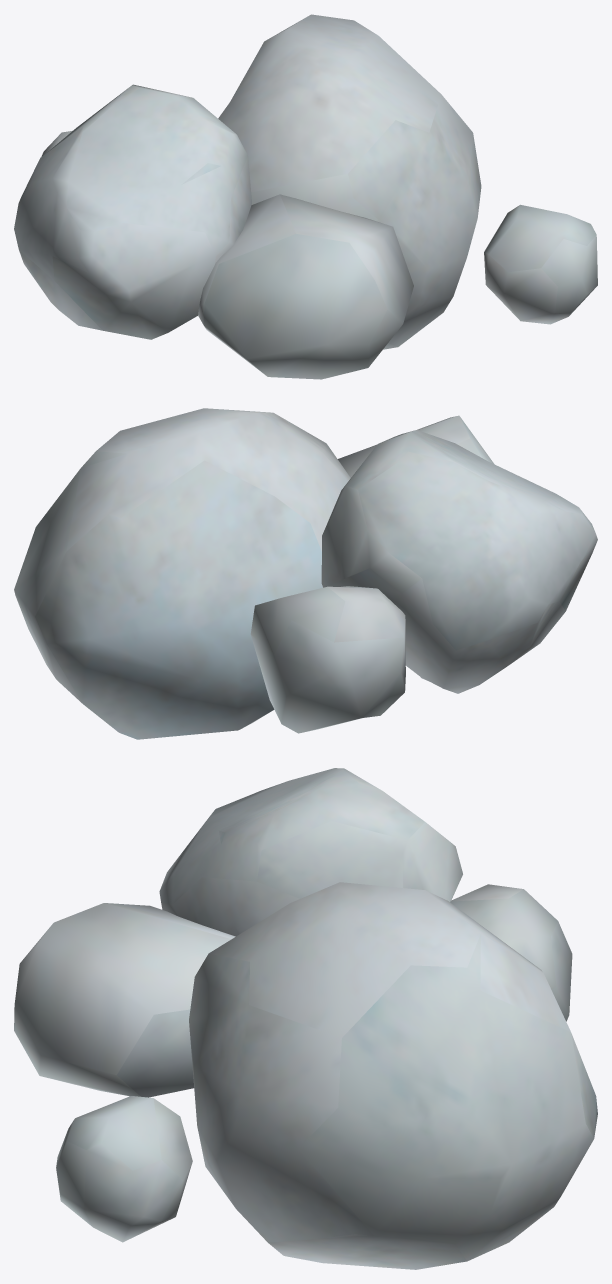
File: P_RockClumpClassic3.obj
3 renders of one model, top to bottom at view 1: azimuth 30°, elevation 25°; view 2: azimuth 150°, elevation 25°; view 3: azimuth 270°, elevation 25°, orthographic. The views are drawn at different scales.
Size of the model in its own units: 1.65 by 1.01 by 1.49.
